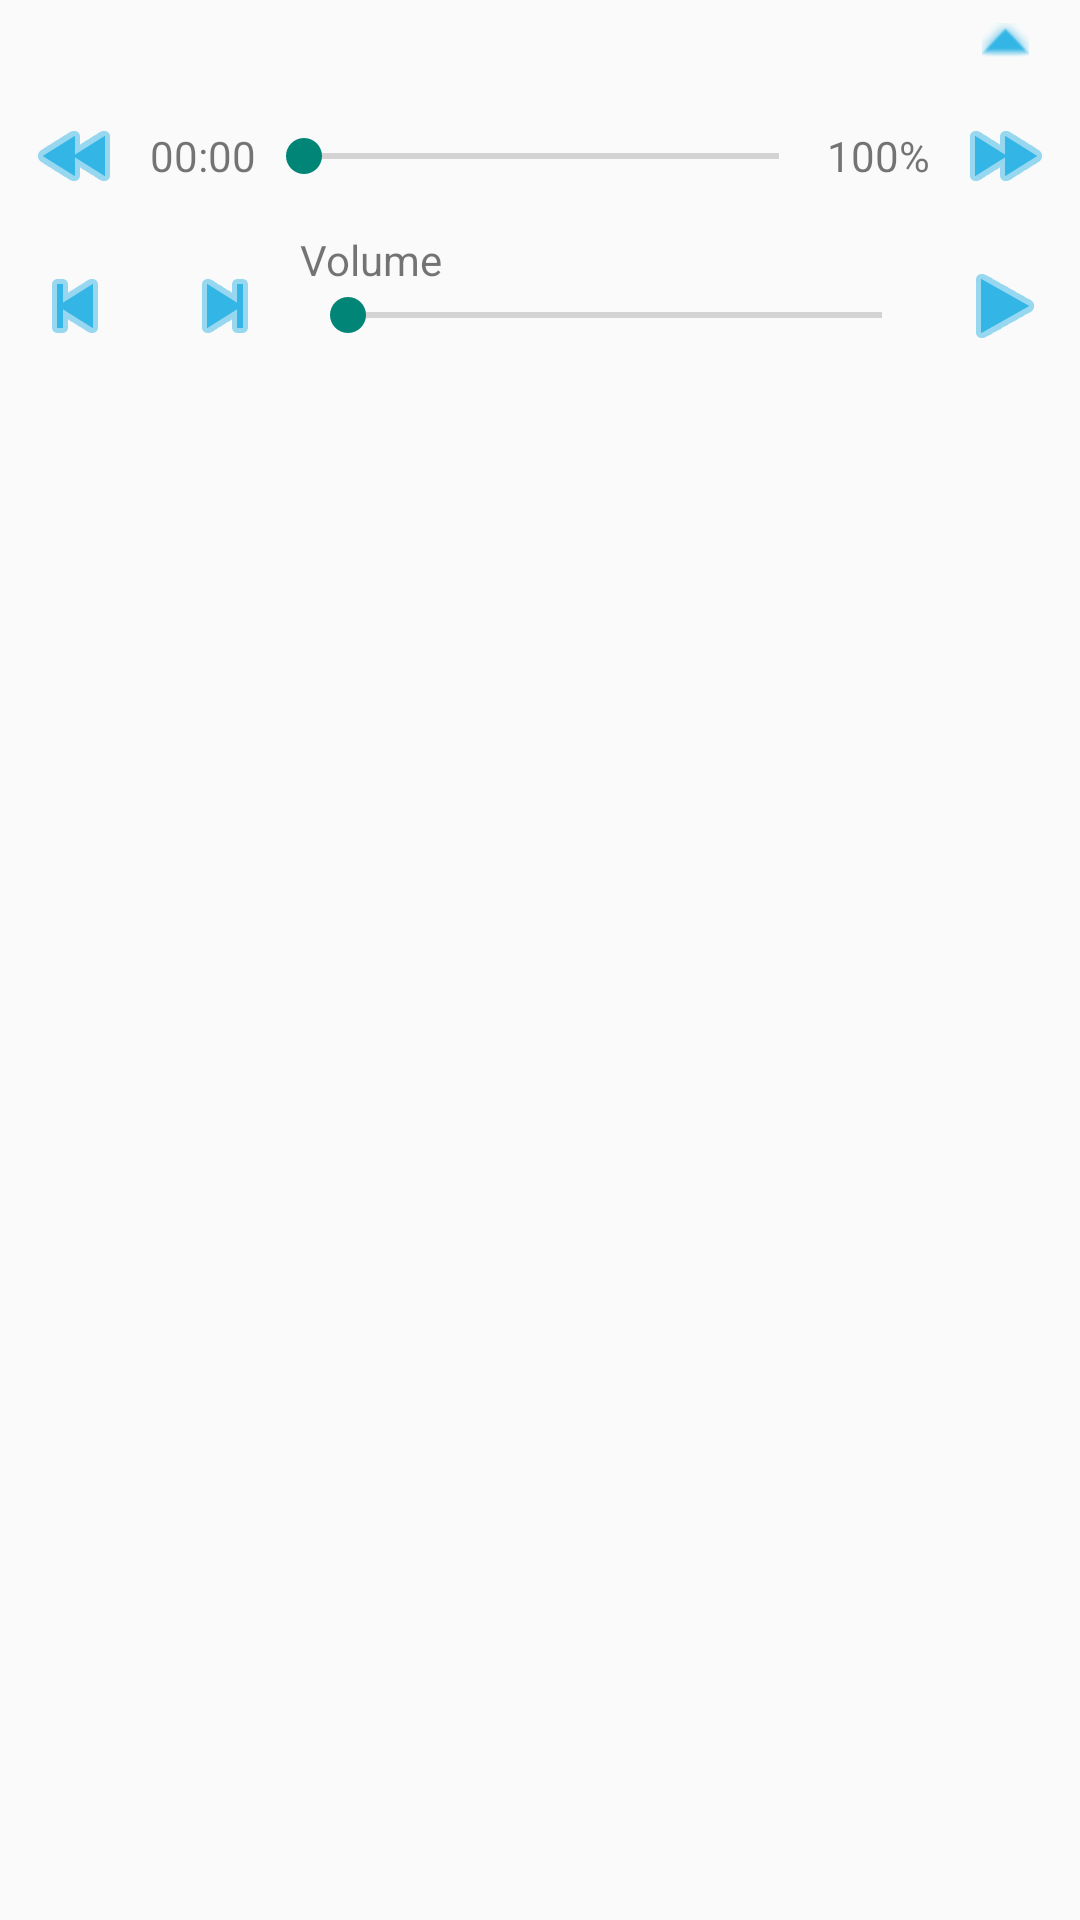

Where to tap for icons on this 1080 × 1920 app screen, as [x,y]:
Jump 20 seconds forward: [1006,156]
Jump 25 seconds back: [74,156]
Play next: [225,306]
Play previous: [75,306]
Play/Pause: [1005,306]
